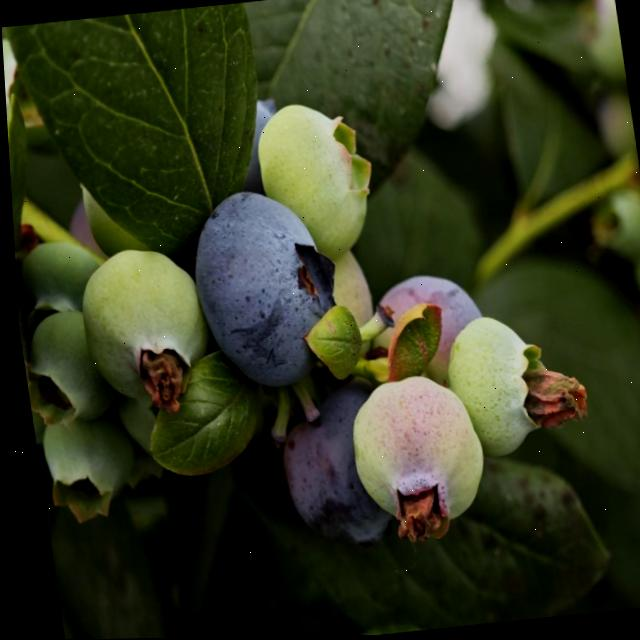RipeBlueBerry: (178, 180, 347, 398)
Semi-RipeBlueBerry: (270, 389, 388, 557), (356, 270, 487, 390)
UnripeBlueBerry: (334, 367, 488, 549), (67, 239, 209, 416), (246, 94, 379, 263), (436, 310, 548, 465)
